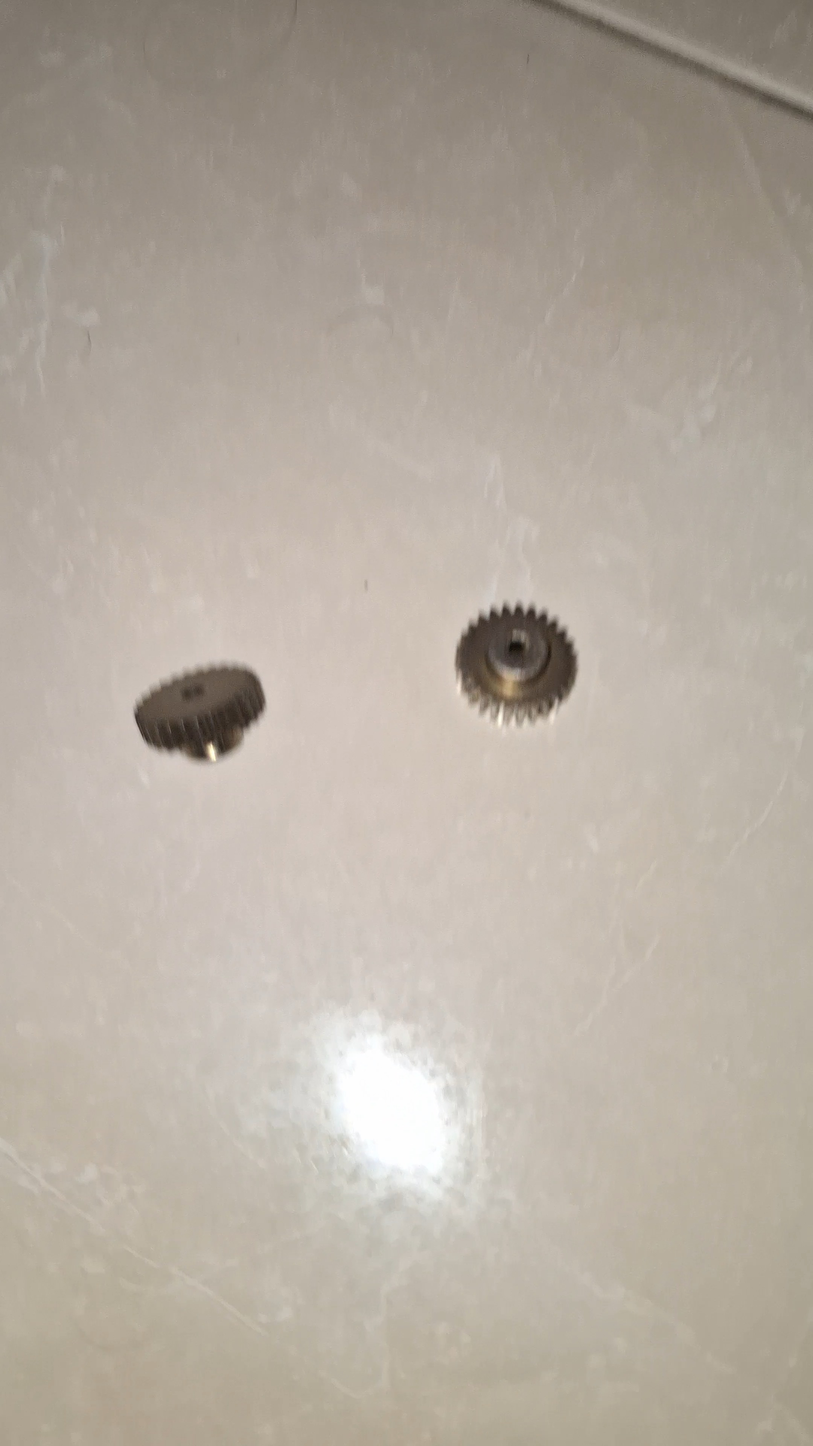spur gear: (456, 606, 576, 723), (135, 665, 264, 761)
